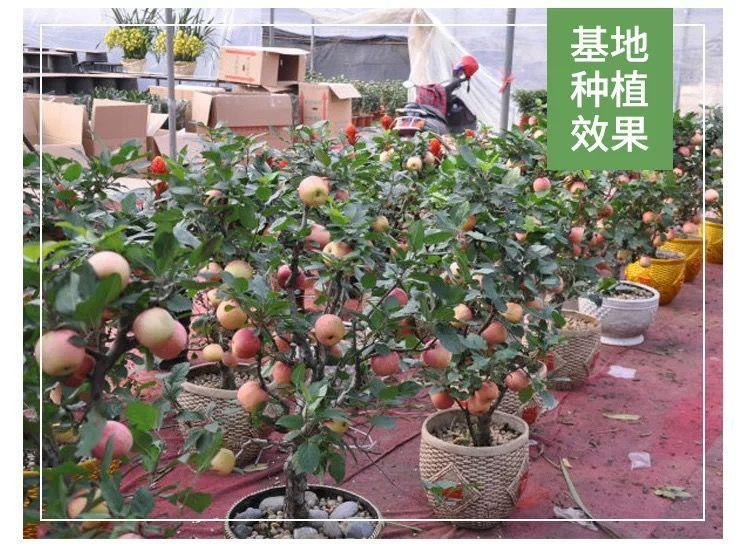apple: (38, 325, 93, 382), (131, 305, 188, 360), (88, 250, 130, 290), (314, 313, 345, 348), (215, 298, 248, 330), (298, 175, 330, 207), (230, 326, 260, 360), (421, 338, 452, 369), (371, 351, 400, 376), (323, 239, 353, 260), (203, 343, 224, 362)
